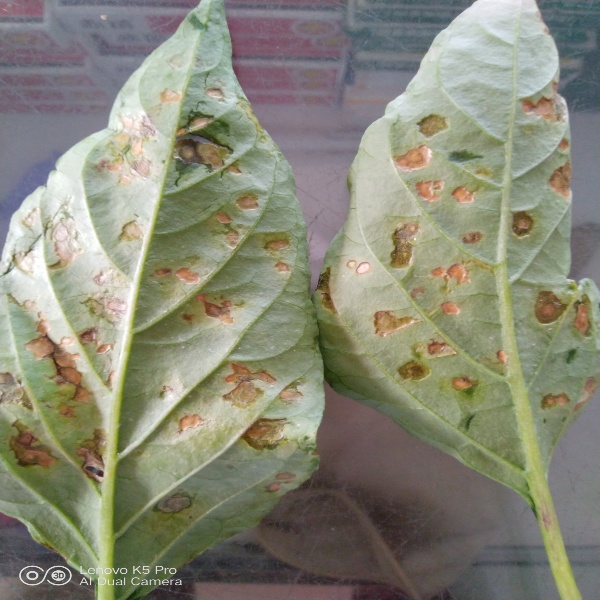Anthrax: (1, 211, 300, 509), (345, 89, 596, 411), (106, 89, 266, 210)
